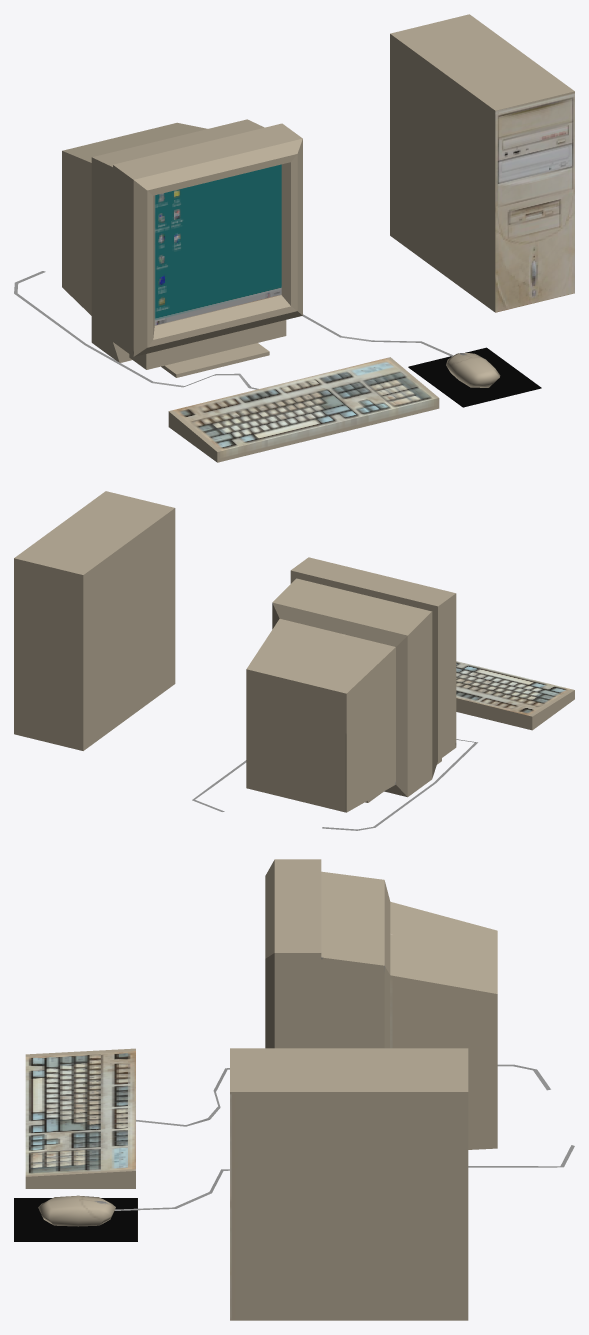
The model's file is PCSetup.fbx.
The picture shows the model from 3 angles, top to bottom: view 1: azimuth 30°, elevation 25°; view 2: azimuth 150°, elevation 25°; view 3: azimuth 270°, elevation 25°; orthographic projection. The views are drawn at different scales.
Visible parts, largest first — view 1: Monitor, Desktop, Keyboard, Mousepad, Stand, Mouse, KeyboardWire; view 2: Monitor, Desktop, Keyboard, KeyboardWire; view 3: Desktop, Monitor, Keyboard, Mousepad, Mouse, MouseWire, KeyboardWire.
Part boxes in pixels (x1,y1,x2,y2): Monitor: (62, 119, 302, 369); Desktop: (390, 14, 574, 312); Keyboard: (168, 357, 439, 462); Mousepad: (408, 347, 541, 407); Stand: (161, 343, 269, 377); Mouse: (446, 353, 500, 387); KeyboardWire: (14, 271, 258, 389); Monitor: (246, 557, 456, 812); Desktop: (14, 491, 175, 750); Keyboard: (456, 661, 574, 730); KeyboardWire: (322, 739, 477, 830); Desktop: (230, 1048, 468, 1320); Monitor: (265, 859, 497, 1149); Keyboard: (25, 1048, 135, 1188); Mousepad: (14, 1198, 137, 1241); Mouse: (38, 1195, 115, 1226); MouseWire: (114, 1145, 574, 1210); KeyboardWire: (136, 1064, 550, 1126).
Size of the model in its own units: 159 by 69.06 by 152.
Materials: 1 (1 with a texture image).
